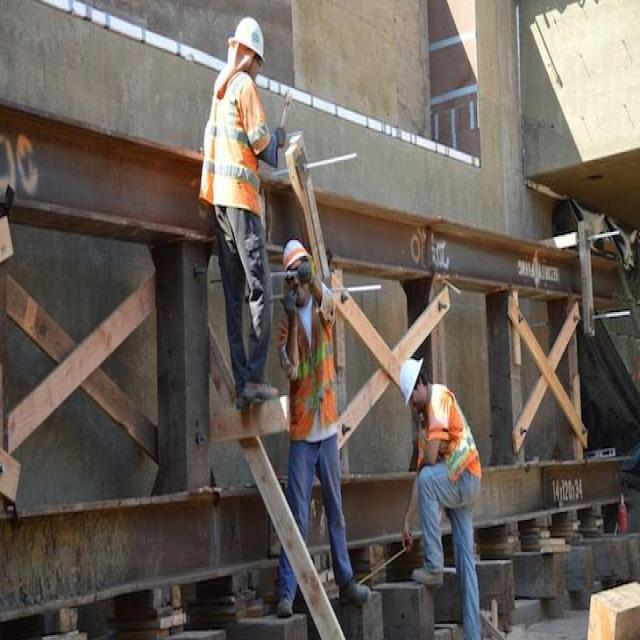helmet: (395, 350, 432, 413), (230, 15, 271, 60), (280, 235, 308, 272)
vest: (203, 67, 274, 227), (284, 293, 336, 435), (429, 387, 475, 477)
